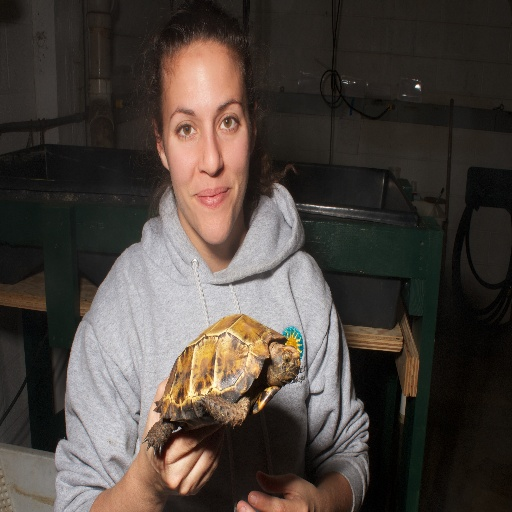hand: (134, 418, 233, 500), (233, 469, 324, 511)
